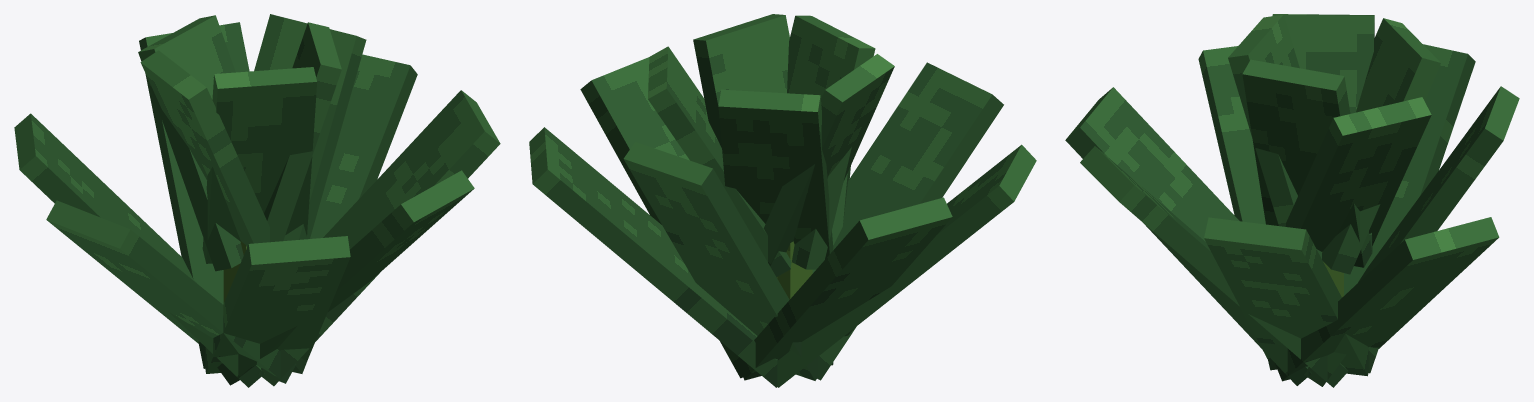
File: potato_2.glb
3 views of the same model, side by side, from view 1: azimuth 30°, elevation 25°; view 2: azimuth 150°, elevation 25°; view 3: azimuth 270°, elevation 25° (orthographic).
Visible parts, largest first — view 1: potato_2; view 2: potato_2; view 3: potato_2.
Boxes of the visible parts, x1=… form: potato_2: x1=14, y1=14, x2=500, y2=387; potato_2: x1=529, y1=14, x2=1036, y2=387; potato_2: x1=1065, y1=14, x2=1519, y2=387.
Bounding box in the file's own units: 0.4467 × 0.3159 × 0.402.
1 material, 1 textured.
